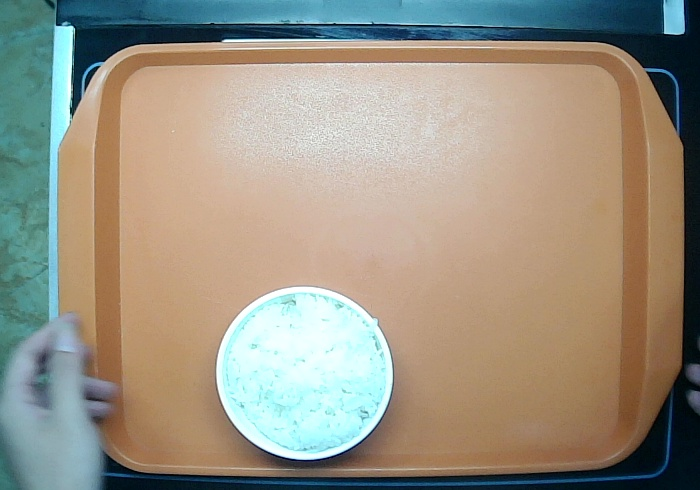HZYJPL-Fan_Wan: (213, 285, 396, 467)
